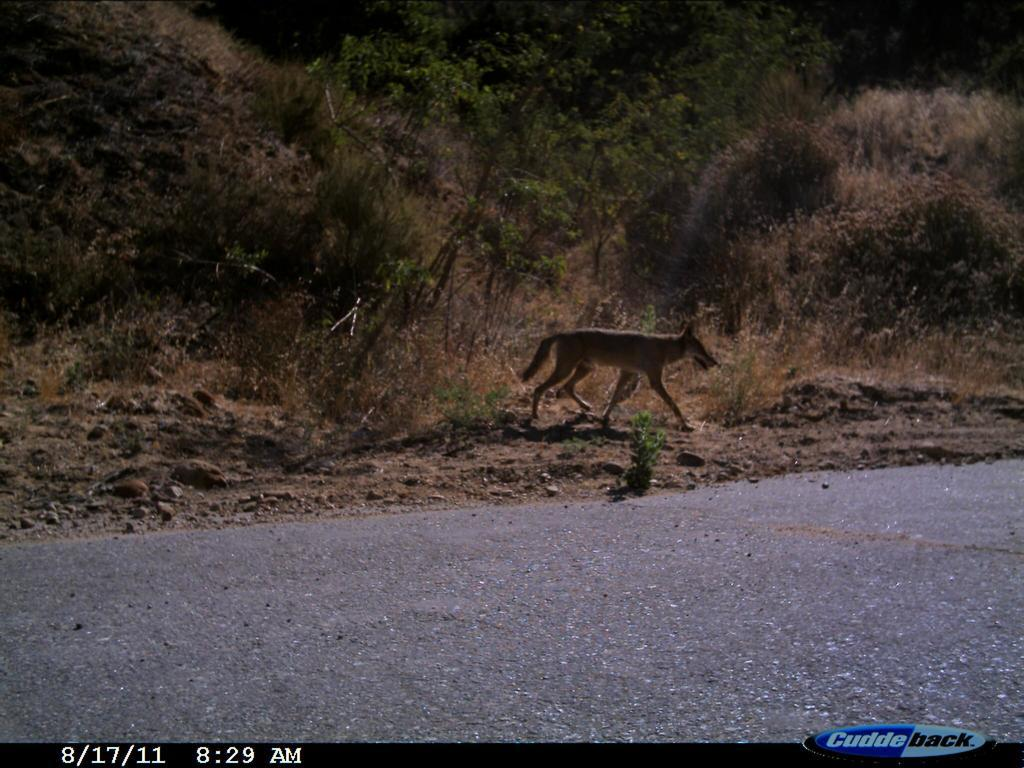coyote: (516, 312, 722, 438)
